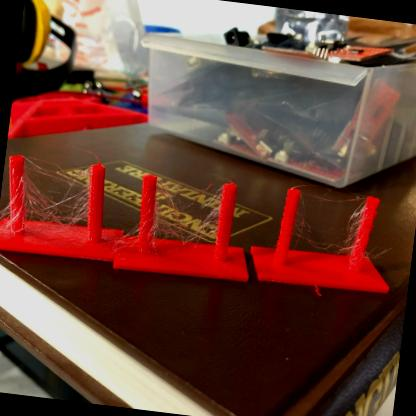fail: (16, 160, 94, 235), (151, 183, 219, 243), (313, 199, 367, 274)
